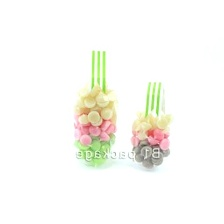snack: (52, 40, 140, 175), (123, 75, 188, 178)
